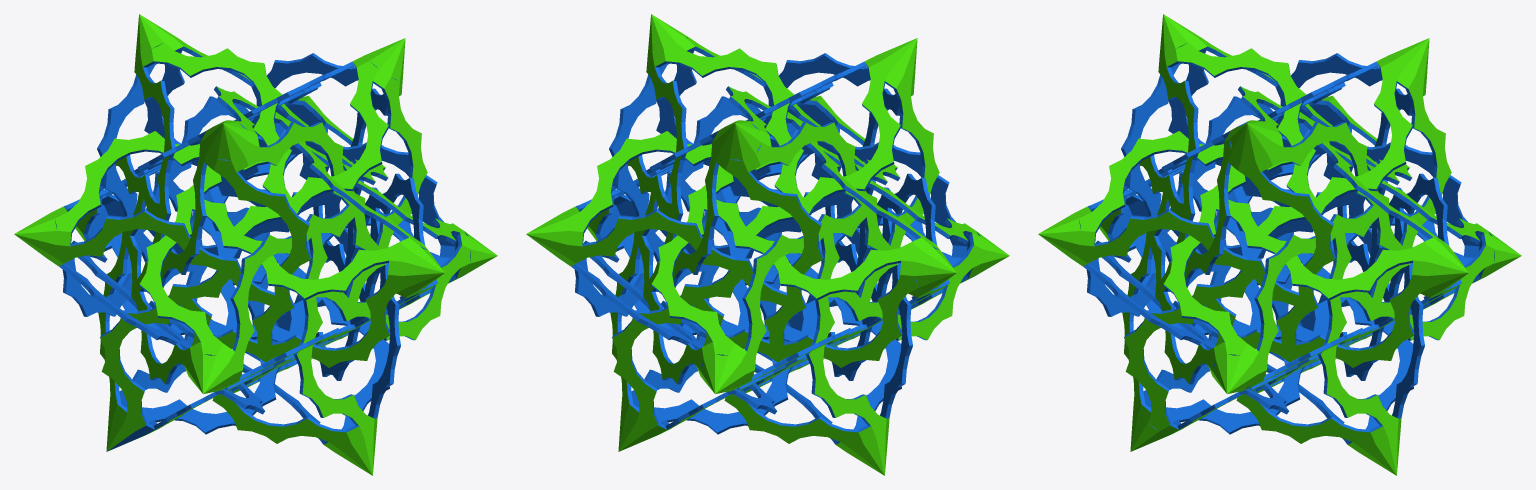
The model's file is StarDodecahedronPolyknot26.glb.
3 renders of one model, left to right at view 1: azimuth 30°, elevation 25°; view 2: azimuth 150°, elevation 25°; view 3: azimuth 270°, elevation 25°, orthographic.
Visible parts, largest first — view 1: 3D_ESCHER_D_POLYKNOT_30Augmented_Penta_Prism_1; view 2: 3D_ESCHER_D_POLYKNOT_30Augmented_Penta_Prism_1; view 3: 3D_ESCHER_D_POLYKNOT_30Augmented_Penta_Prism_1.
Part boxes in pixels (bbox=[...]): 3D_ESCHER_D_POLYKNOT_30Augmented_Penta_Prism_1: bbox=[14, 14, 497, 475]; 3D_ESCHER_D_POLYKNOT_30Augmented_Penta_Prism_1: bbox=[526, 14, 1009, 475]; 3D_ESCHER_D_POLYKNOT_30Augmented_Penta_Prism_1: bbox=[1038, 14, 1521, 475].
Size of the model in its own units: 96.08 by 79.47 by 93.42.
